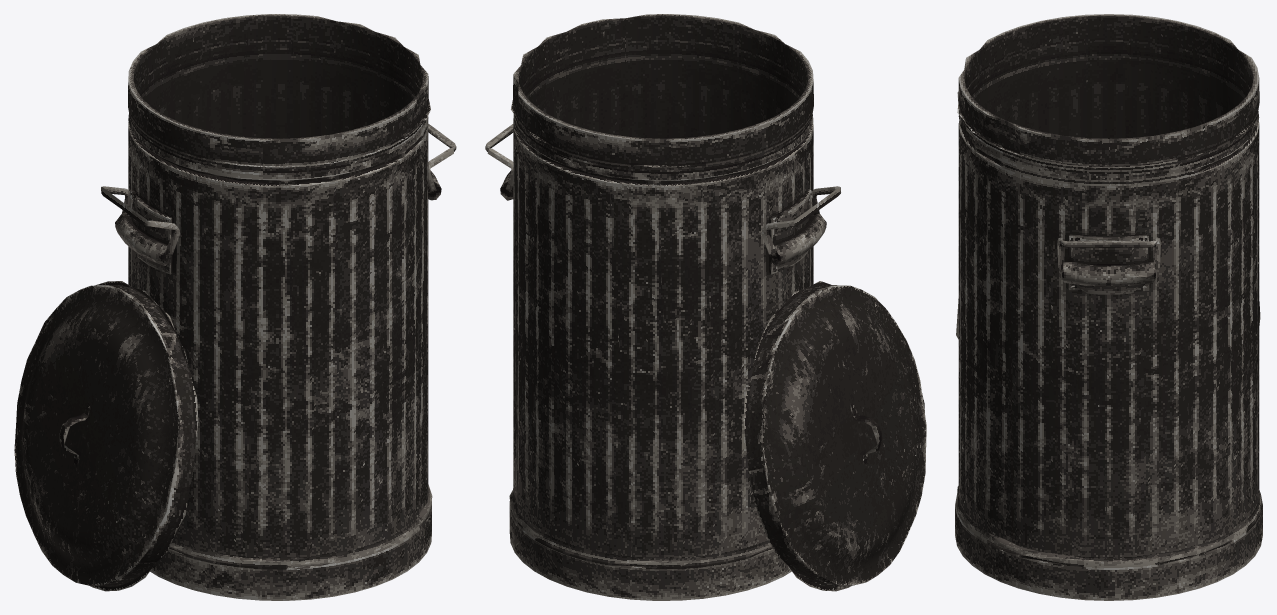
File: metal_trash_can.glb
3 views of the same model, side by side, from view 1: azimuth 30°, elevation 25°; view 2: azimuth 150°, elevation 25°; view 3: azimuth 270°, elevation 25° (orthographic).
Parts seen in each view (by area): view 1: body; view 2: body; view 3: body.
Boxes of the visible parts, box(x1,y1,x2,y2) form: body: box(14, 14, 456, 600); body: box(485, 14, 926, 600); body: box(955, 14, 1262, 600).
Bounding box in the file's own units: 0.7754 × 0.9062 × 0.5514.
Materials: 1 (1 with a texture image).
